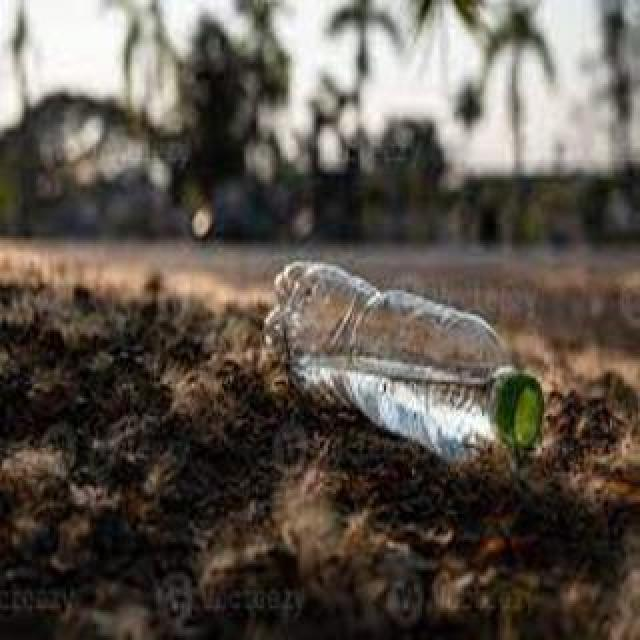Pet_Bottle: (256, 260, 548, 458)
